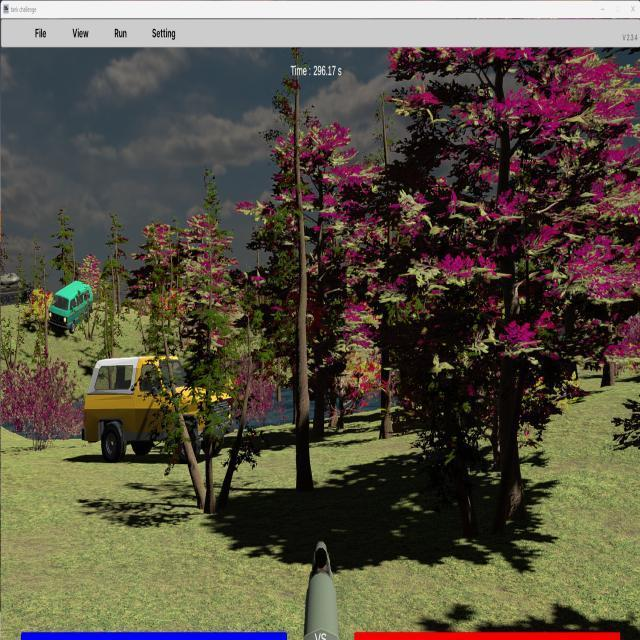Tank: (0, 272, 34, 306)
car: (83, 355, 235, 460), (48, 281, 93, 333)
